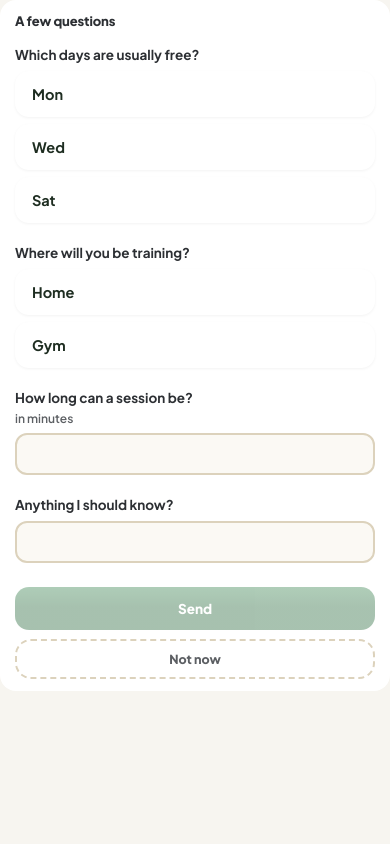
Test case: Send › stays dead until every question has an answer
expect the text "Which days are usually free?" is shown: met, box left=15, top=46, right=199, bottom=63
expect the button "Send" is disabled: met, box left=15, top=587, right=375, bottom=630
Click the button "Mon" at point(48, 94), box left=15, top=71, right=375, bottom=117
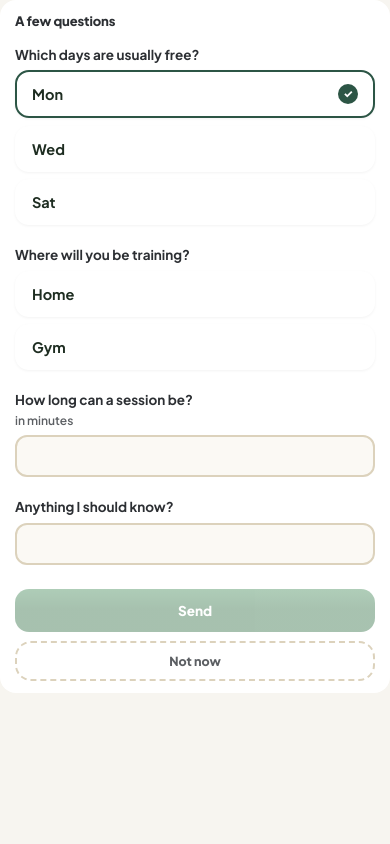
Click the button "Gym" at point(49, 347), box left=15, top=324, right=375, bottom=370
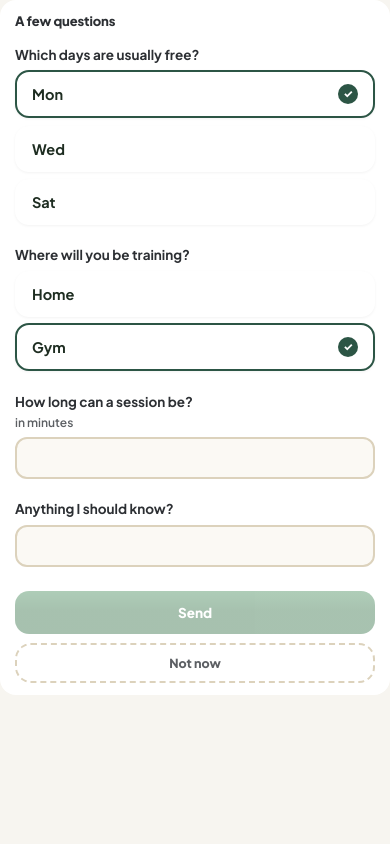
Type "45" into the number field at point(195, 458), box left=15, top=437, right=375, bottom=479
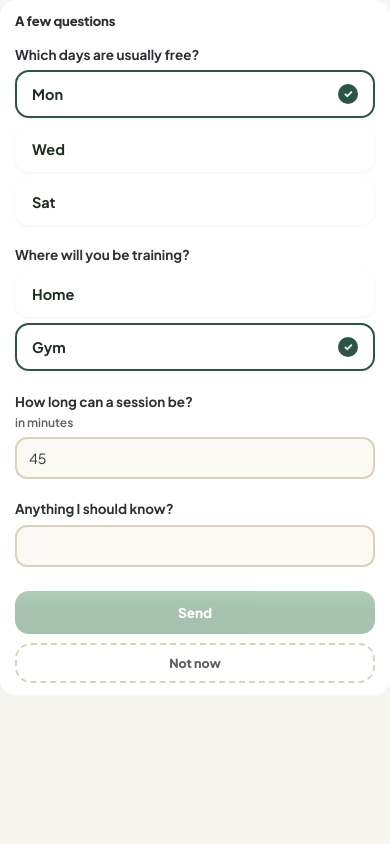
expect the button "Send" is disabled: met, box left=15, top=591, right=375, bottom=634
Type "no" into the field at point(195, 546), box left=15, top=525, right=375, bottom=567
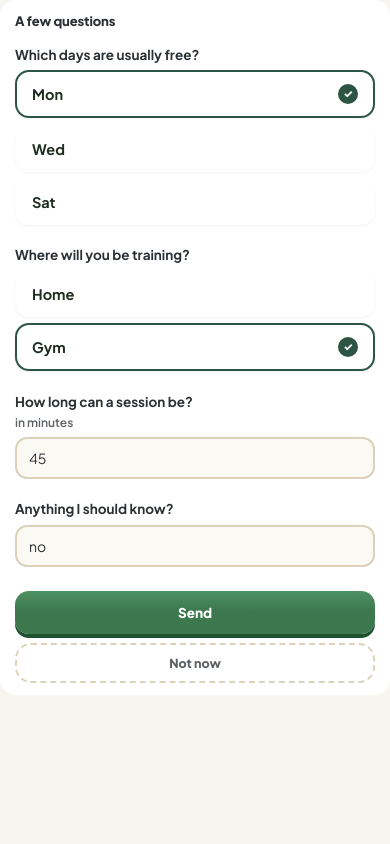
expect the button "Send" is enabled: met, box left=15, top=591, right=375, bottom=634
